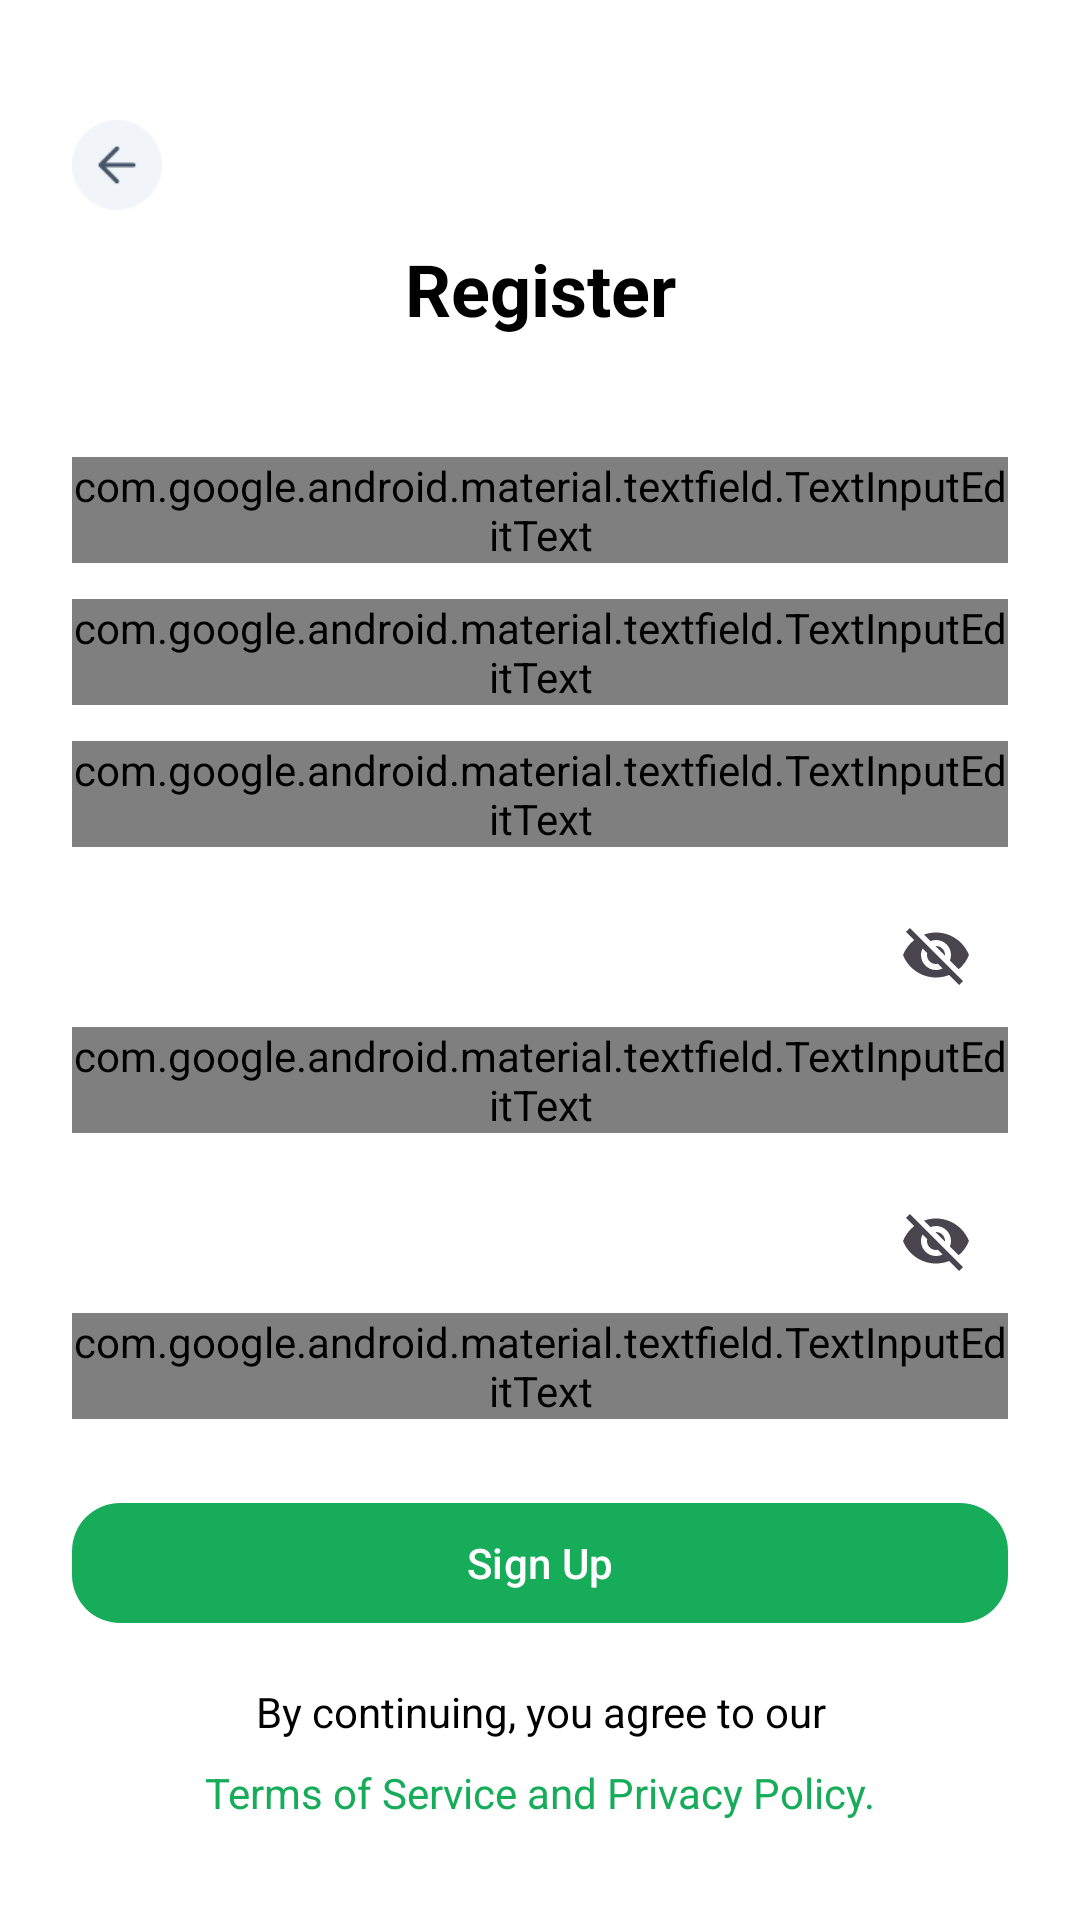

Icon click points for this 1080×1920 phone screenshot, format (x,y):
Back: (117,165)
